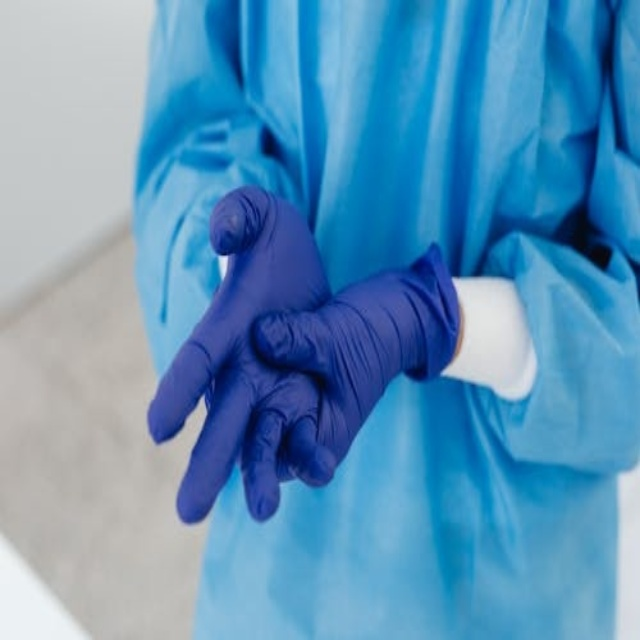Guantes: (142, 186, 333, 540), (247, 241, 463, 517)
